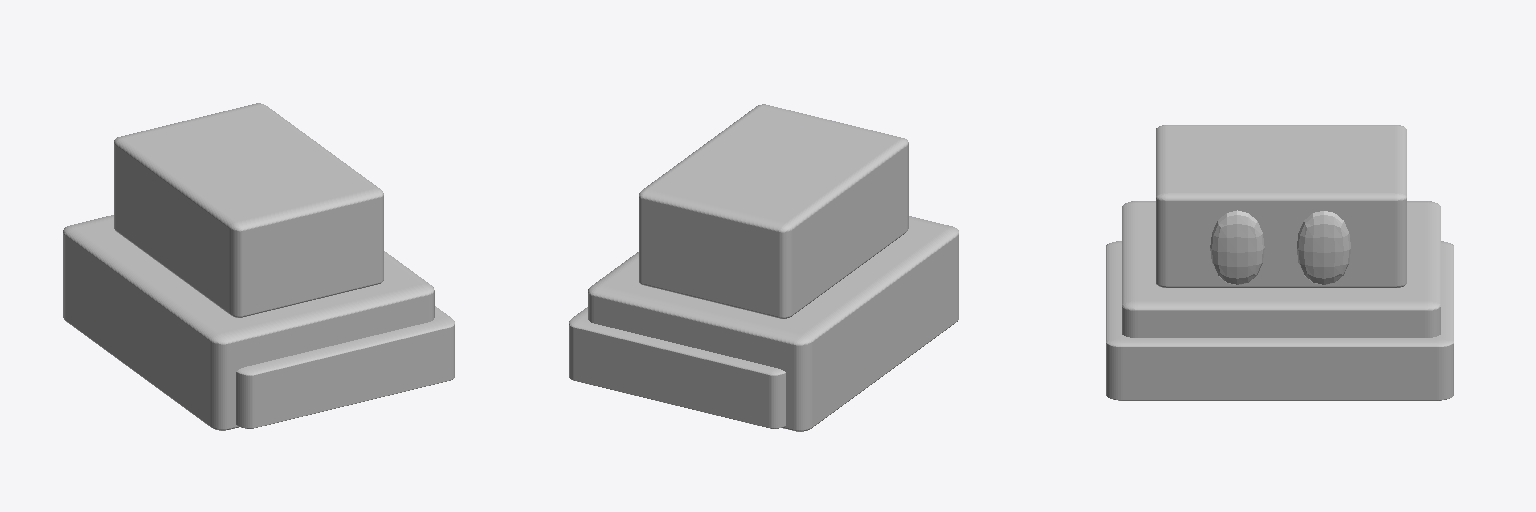
The model's file is TankEnemy.obj.
The picture shows the model from 3 angles: view 1: azimuth 30°, elevation 25°; view 2: azimuth 150°, elevation 25°; view 3: azimuth 270°, elevation 25°; orthographic projection.
Visible parts, largest first — view 1: Cube, Cube.001, Cube.004; view 2: Cube, Cube.001, Cube.004; view 3: Cube, Cube.004, Cube.001, Cube.002, Cube.003.
Part boxes in pixels (left/top/right/bottom): Cube: left=114, top=103, right=383, bottom=317; Cube.001: left=63, top=215, right=434, bottom=430; Cube.004: left=236, top=306, right=454, bottom=428; Cube: left=639, top=104, right=908, bottom=318; Cube.001: left=588, top=216, right=958, bottom=431; Cube.004: left=569, top=307, right=785, bottom=428; Cube: left=1156, top=125, right=1406, bottom=287; Cube.004: left=1106, top=241, right=1453, bottom=400; Cube.001: left=1122, top=201, right=1440, bottom=337; Cube.002: left=1210, top=210, right=1264, bottom=284; Cube.003: left=1297, top=211, right=1350, bottom=284.
Bounding box in the file's own units: 5.24 × 3.97 × 6.72.